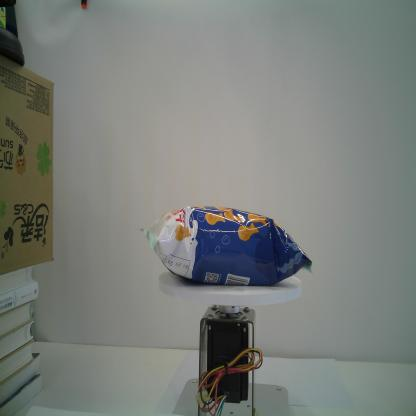Puffed Food: (139, 205, 313, 287)
